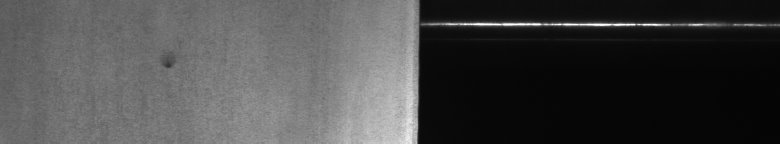fi: (160, 52, 179, 76)
